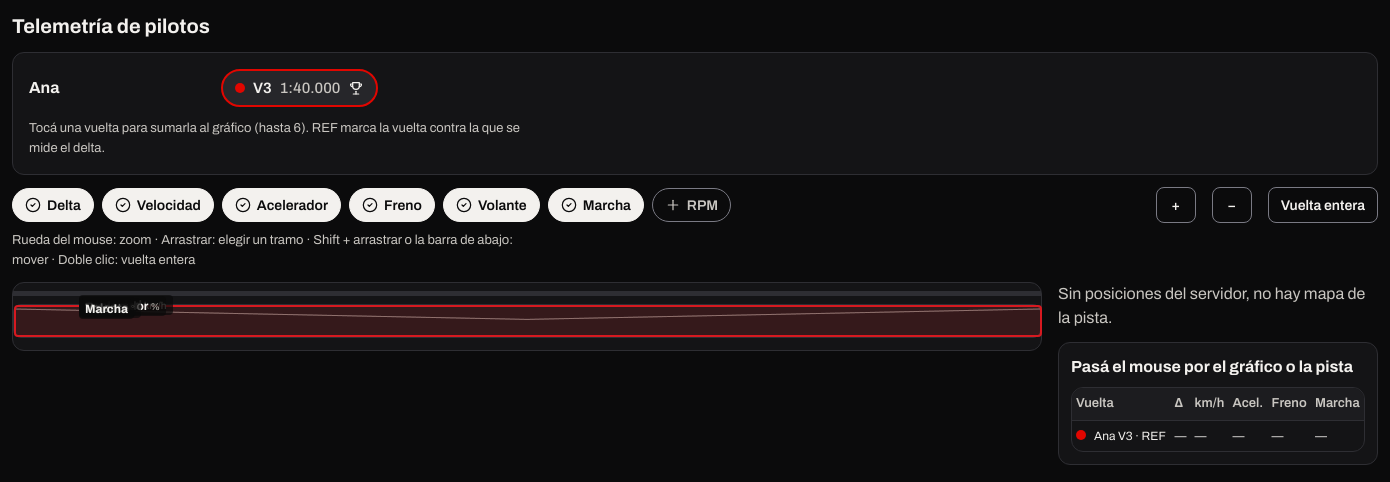
Test: TelemetrySection › turns a lane off and on
Expected: the table is shown, left=1072, top=388, right=1364, bottom=450
Expected: the text "Volante" is shown, left=85, top=301, right=129, bottom=315
Click the button "Volante".
click(491, 205)  # box left=443, top=188, right=540, bottom=222
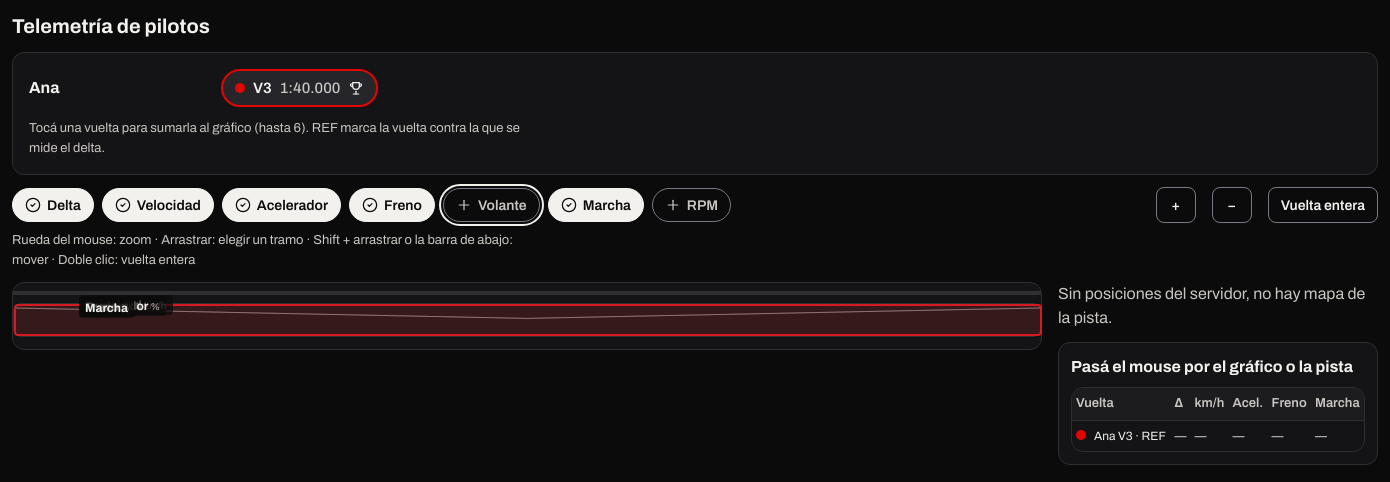
Click the button "Volante".
click(491, 205)  # box left=443, top=188, right=540, bottom=222
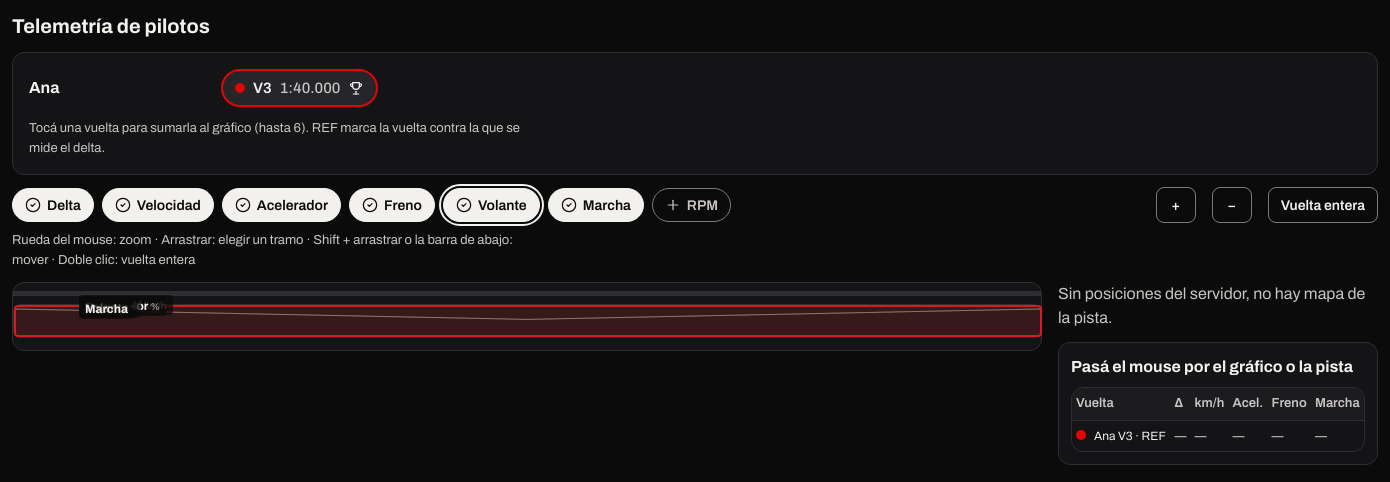
Expected: the text "Volante" is shown, left=85, top=301, right=129, bottom=315
